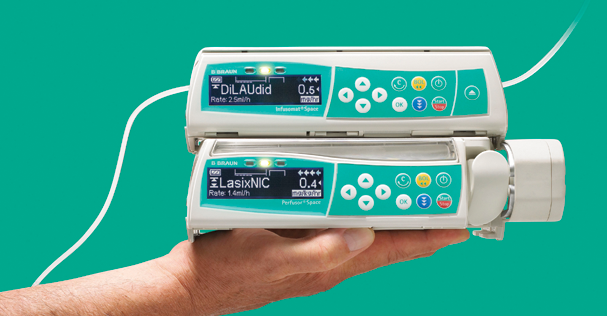BBraun Infusomat Space: (185, 43, 509, 138)
